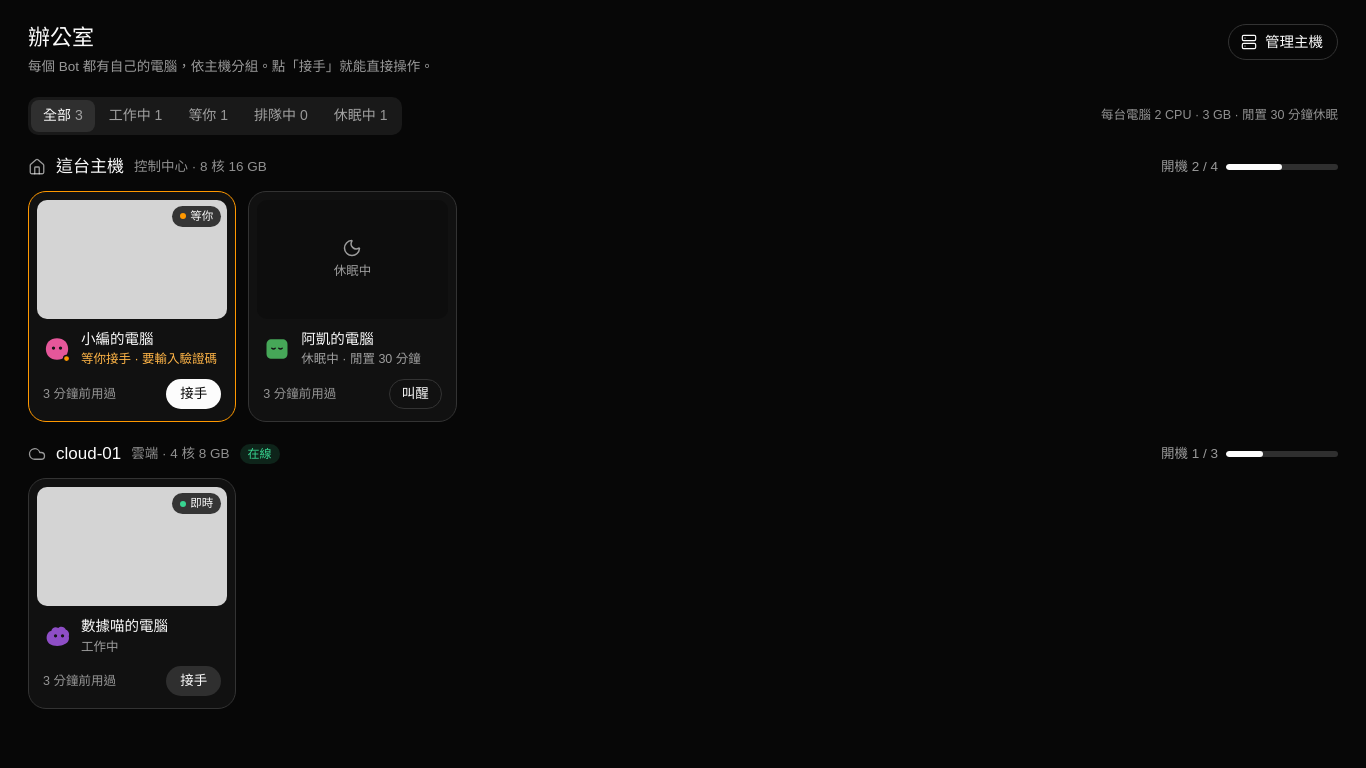
Scenario: 辦公室（E03）：依主機分組、縮圖、等你的卡片、篩選
Check: the number of elements with test id "host-group" is 2, box x1=28 y1=155 x2=1338 y2=422; x1=28 y1=442 x2=1338 y2=709
Check: the text "開機 2 / 4" is shown, box x1=1161 y1=157 x2=1338 y2=177
Step 1. Click the tab "休眠中 1" → (361, 116), box x1=322 y1=100 x2=400 y2=132
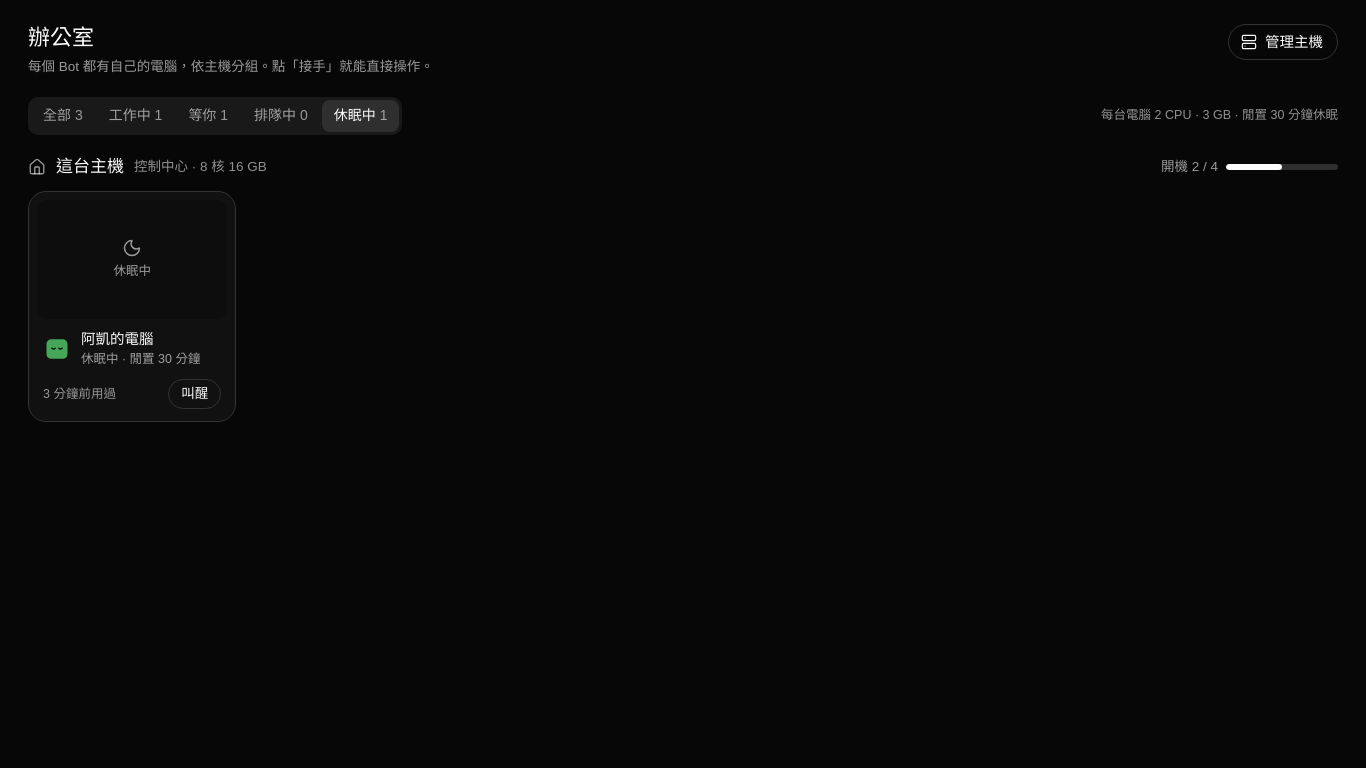
Check: the number of elements with test id "host-group" is 1, box x1=28 y1=155 x2=1338 y2=422
Check: the number of elements with test id "office-card" is 1, box x1=28 y1=191 x2=236 y2=422
